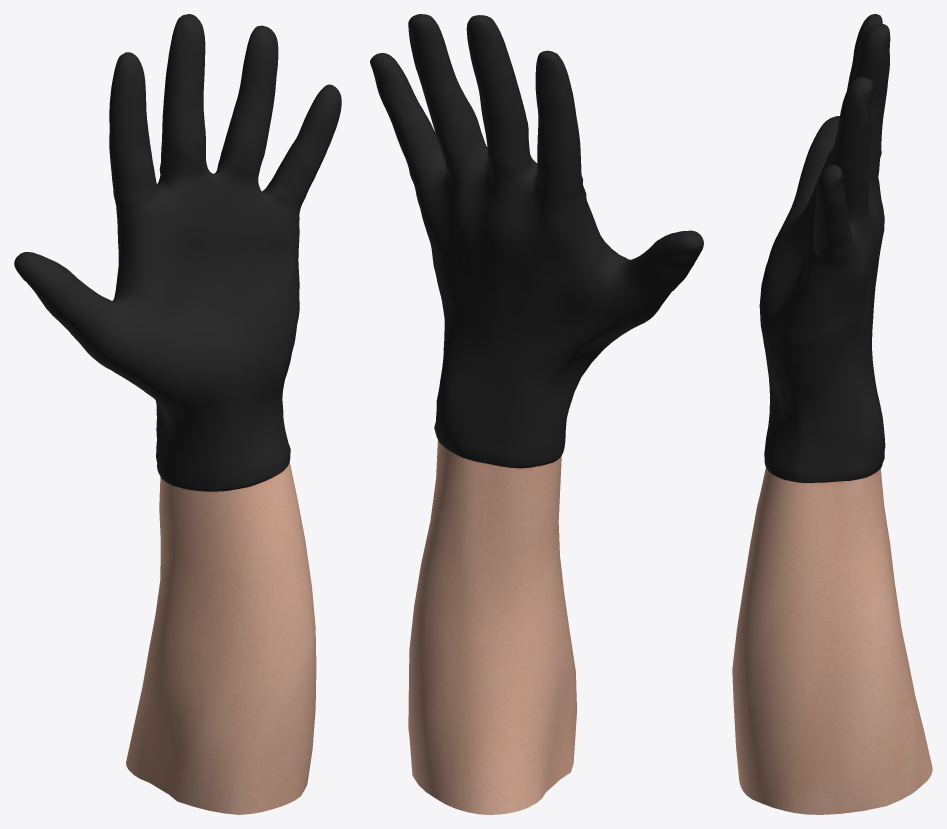
File: ARM.glb
3 views of the same model, side by side, from view 1: azimuth 30°, elevation 25°; view 2: azimuth 150°, elevation 25°; view 3: azimuth 270°, elevation 25° (orthographic). The views are drawn at different scales.
Parts seen in each view (by area): view 1: model_0.001, model_0; view 2: model_0.001, model_0; view 3: model_0, model_0.001.
Part boxes in pixels (left/top/right/bottom): model_0.001: left=14, top=14, right=341, bottom=491; model_0: left=126, top=462, right=316, bottom=814; model_0.001: left=370, top=14, right=703, bottom=468; model_0: left=408, top=440, right=576, bottom=814; model_0: left=732, top=467, right=932, bottom=814; model_0.001: left=759, top=14, right=890, bottom=482.
Bounding box in the file's own units: 0.4505 × 1 × 0.2427.
Materials: 2 (1 with a texture image).
